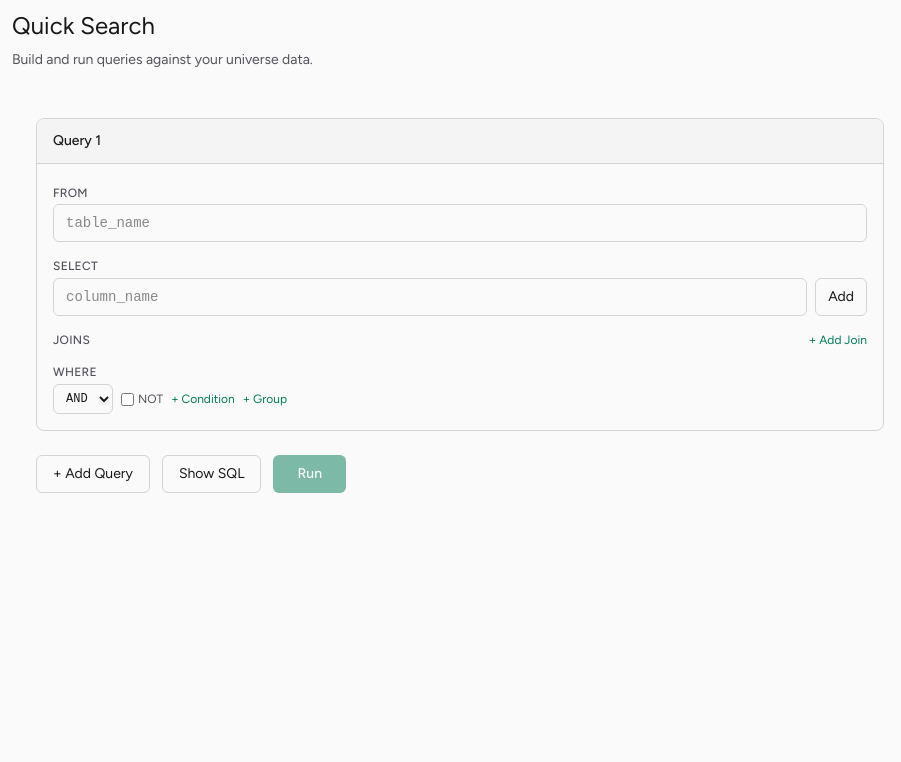
add query button appends a second query block
The width and height of the screenshot is (901, 762).
Click the button "+ Add Query": (93, 474) [36,455,150,493]
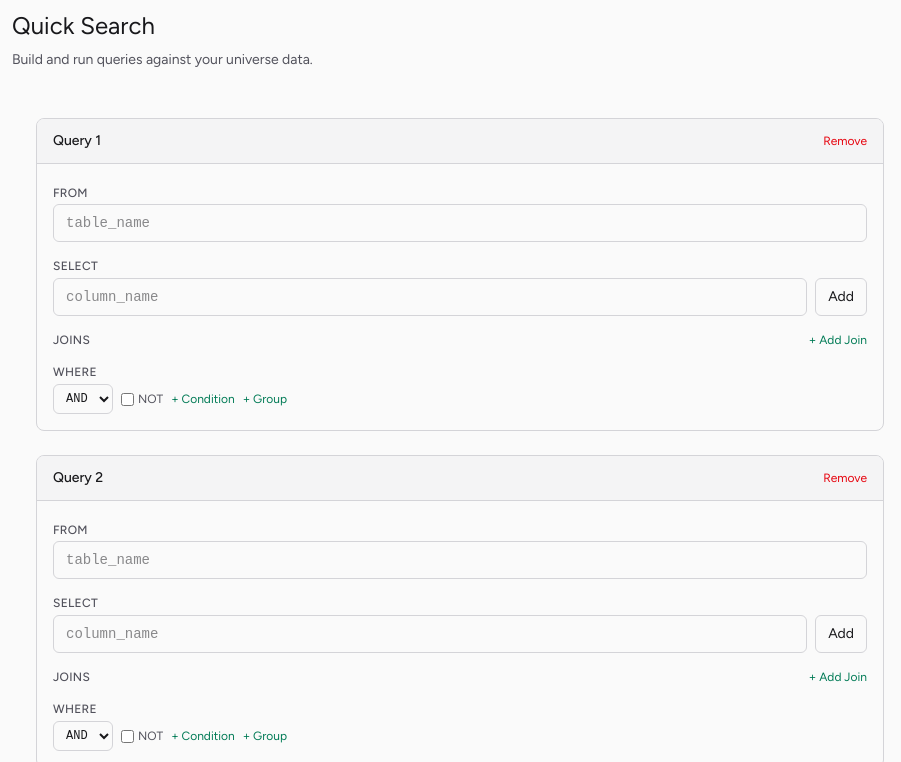
Expected: the text "Query 2" is shown, [53,468,103,488]
